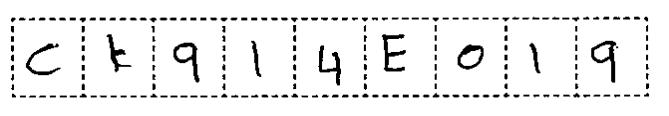0: (452, 40, 489, 74)
1: (238, 36, 273, 82), (520, 38, 553, 82)
4: (308, 40, 352, 89)
9: (584, 33, 624, 88), (169, 39, 207, 88)
C: (19, 36, 69, 81)
E: (376, 26, 417, 80)
K: (93, 29, 137, 78)
